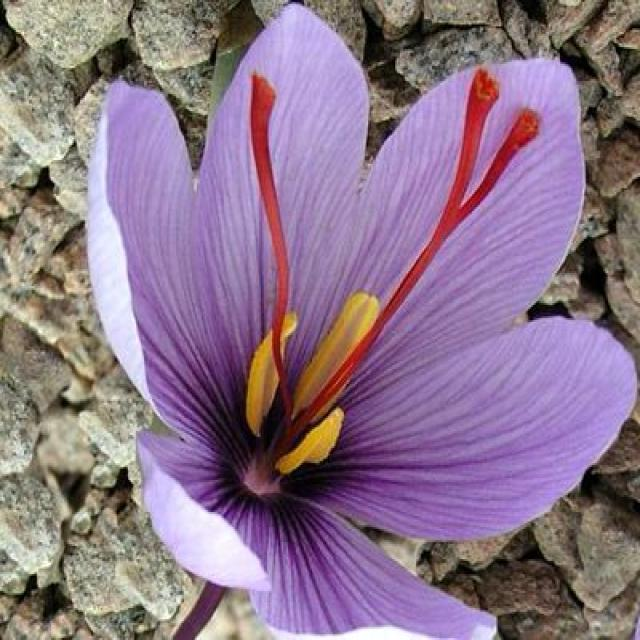Flower: (89, 6, 634, 637)
stigma: (320, 59, 538, 462), (313, 67, 510, 409), (240, 71, 296, 401)
